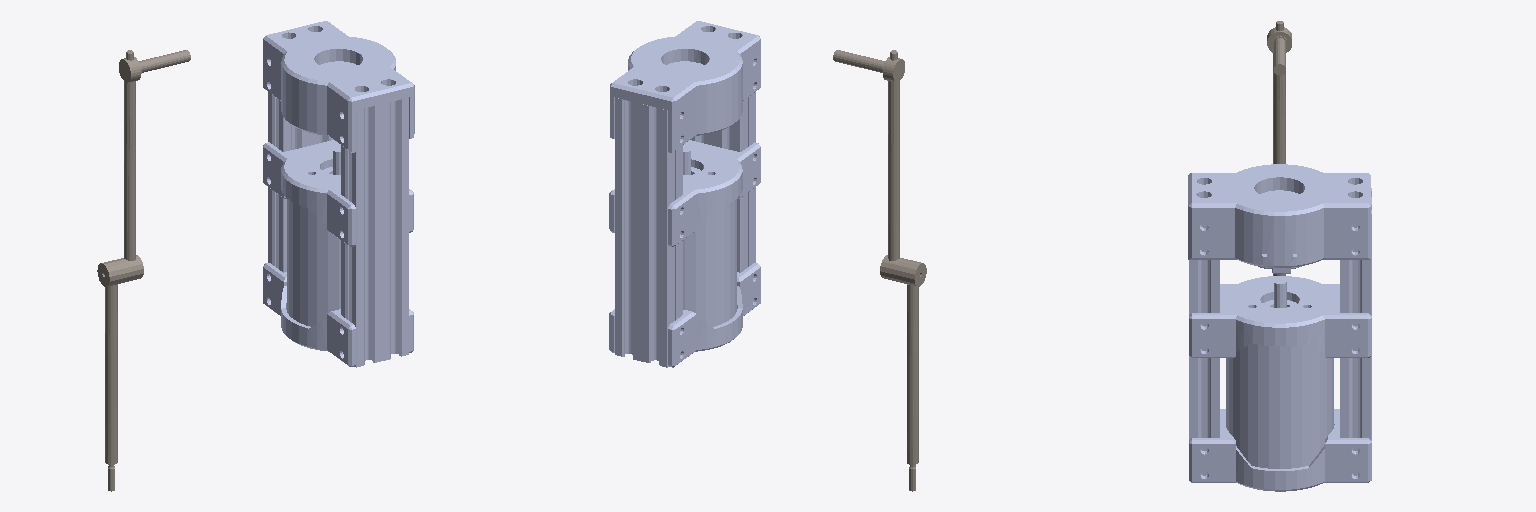
robot.urdf — double_invert_pendulum_description:
<?xml version="1.0" encoding="utf-8"?>
<!-- This URDF was automatically created by SolidWorks to URDF Exporter! Originally created by [author] ([email redacted]) 
     Commit Version: 1.6.0-4-g7f85cfe  Build Version: 1.6.7995.38578
     For more information, please see http://wiki.ros.org/sw_urdf_exporter -->
<robot
  name="double_invert_pendulum_description">
  <link
    name="base_link">
    <inertial>
      <origin
        xyz="4.35011143188255E-06 -4.26974202710952E-05 0.0926893522450359"
        rpy="0 0 0" />
      <mass
        value="0.951310569253784" />
      <inertia
        ixx="0.00149406454043322"
        ixy="4.1269780410918E-09"
        ixz="-7.65282756367952E-08"
        iyy="0.00140648625642533"
        iyz="8.80770910696327E-10"
        izz="0.000630646344660402" />
    </inertial>
    <visual>
      <origin
        xyz="0 0 0"
        rpy="0 0 0" />
      <geometry>
        <mesh
          filename="package://double_invert_pendulum_description/meshes/base_link.STL" />
      </geometry>
      <material
        name="">
        <color
          rgba="0.792156862745098 0.819607843137255 0.933333333333333 1" />
      </material>
    </visual>
    <collision>
      <origin
        xyz="0 0 0"
        rpy="0 0 0" />
      <geometry>
        <mesh
          filename="package://double_invert_pendulum_description/meshes/base_link.STL" />
      </geometry>
    </collision>
  </link>
  <link
    name="revolute_Link">
    <inertial>
      <origin
        xyz="-0.0286909334248885 -0.000165321852001084 0.00149997929858667"
        rpy="0 0 0" />
      <mass
        value="0.22015507085087" />
      <inertia
        ixx="5.59477770124058E-05"
        ixy="-2.47845250294301E-09"
        ixz="-6.15261336732562E-09"
        iyy="0.000114971529494517"
        iyz="4.85611321473666E-09"
        izz="0.000137466092368282" />
    </inertial>
    <visual>
      <origin
        xyz="0 0 0"
        rpy="0 0 0" />
      <geometry>
        <mesh
          filename="package://double_invert_pendulum_description/meshes/revolute_Link.STL" />
      </geometry>
      <material
        name="">
        <color
          rgba="0.650980392156863 0.619607843137255 0.588235294117647 1" />
      </material>
    </visual>
    <collision>
      <origin
        xyz="0 0 0"
        rpy="0 0 0" />
      <geometry>
        <mesh
          filename="package://double_invert_pendulum_description/meshes/revolute_Link.STL" />
      </geometry>
    </collision>
  </link>
  <joint
    name="revolute_joint"
    type="continuous">
    <origin
      xyz="0 0 0.2"
      rpy="0 0 0" />
    <parent
      link="base_link" />
    <child
      link="revolute_Link" />
    <axis
      xyz="0 0 1" />
    <limit
      lower="0"
      upper="0"
      effort="0"
      velocity="0" />
  </joint>
  <link
    name="first_pendulum_link">
    <inertial>
      <origin
        xyz="-1.00551614626808E-07 -0.0646208421547946 -0.00362087479361176"
        rpy="0 0 0" />
      <mass
        value="0.0997302210483471" />
      <inertia
        ixx="0.000174588068807011"
        ixy="-2.95045790865843E-10"
        ixz="2.21709158691669E-11"
        iyy="6.96835664909535E-06"
        iyz="5.24978381703526E-07"
        izz="0.000169216758156749" />
    </inertial>
    <visual>
      <origin
        xyz="0 0 0"
        rpy="0 0 0" />
      <geometry>
        <mesh
          filename="package://double_invert_pendulum_description/meshes/first_pendulum_link.STL" />
      </geometry>
      <material
        name="">
        <color
          rgba="0.650980392156863 0.619607843137255 0.588235294117647 1" />
      </material>
    </visual>
    <collision>
      <origin
        xyz="0 0 0"
        rpy="0 0 0" />
      <geometry>
        <mesh
          filename="package://double_invert_pendulum_description/meshes/first_pendulum_link.STL" />
      </geometry>
    </collision>
  </link>
  <joint
    name="first_pendulum_joint"
    type="continuous">
    <origin
      xyz="-0.157 -0.0002 0.0232"
      rpy="1.5708 0 -1.5708" />
    <parent
      link="revolute_Link" />
    <child
      link="first_pendulum_link" />
    <axis
      xyz="0 0 1" />
    <limit
      lower="0"
      upper="0"
      effort="0"
      velocity="0" />
  </joint>
  <link
    name="second_pendulum_link">
    <inertial>
      <origin
        xyz="-1.37241877775095E-07 -0.0553657542543718 0.000364883293048152"
        rpy="0 0 0" />
      <mass
        value="0.0733318769925464" />
      <inertia
        ixx="0.000168690593331268"
        ixy="2.94799944877995E-10"
        ixz="-2.24978351021251E-11"
        iyy="1.02496796632714E-06"
        iyz="5.48572430725862E-07"
        izz="0.000168736683605543" />
    </inertial>
    <visual>
      <origin
        xyz="0 0 0"
        rpy="0 0 0" />
      <geometry>
        <mesh
          filename="package://double_invert_pendulum_description/meshes/second_pendulum_link.STL" />
      </geometry>
      <material
        name="">
        <color
          rgba="0.650980392156863 0.619607843137255 0.588235294117647 1" />
      </material>
    </visual>
    <collision>
      <origin
        xyz="0 0 0"
        rpy="0 0 0" />
      <geometry>
        <mesh
          filename="package://double_invert_pendulum_description/meshes/second_pendulum_link.STL" />
      </geometry>
    </collision>
  </link>
  <joint
    name="second_pendulum_joint"
    type="continuous">
    <origin
      xyz="0 -0.1432 0.0135"
      rpy="0 0 0" />
    <parent
      link="first_pendulum_link" />
    <child
      link="second_pendulum_link" />
    <axis
      xyz="0 0 1" />
    <limit
      lower="0"
      upper="0"
      effort="0"
      velocity="0" />
  </joint>
</robot>

--- What the picture shows (computed from the rendered views, not written in the file) ---
3 views of the same robot in one strip: view 1: azimuth 30°, elevation 25°; view 2: azimuth 150°, elevation 25°; view 3: azimuth 270°, elevation 25° (orthographic).
Model double_invert_pendulum_description with 4 links and 3 joints (3 continuous), rooted at base_link, posed every joint at zero.
Visible links, largest first — view 1: base_link, first_pendulum_link, second_pendulum_link; view 2: base_link, first_pendulum_link, second_pendulum_link; view 3: base_link, first_pendulum_link.
Link boxes in pixels (x1=…): base_link: x1=263, y1=21, x2=414, y2=367; first_pendulum_link: x1=119, y1=50, x2=190, y2=282; second_pendulum_link: x1=97, y1=259, x2=126, y2=491; base_link: x1=609, y1=21, x2=760, y2=367; first_pendulum_link: x1=833, y1=50, x2=904, y2=281; second_pendulum_link: x1=897, y1=259, x2=926, y2=491; base_link: x1=1188, y1=164, x2=1371, y2=491; first_pendulum_link: x1=1267, y1=21, x2=1291, y2=163.
Bounding box of the posed robot: 0.2143 × 0.1152 × 0.312 m (x, y, z).
3 mesh visuals loaded from 4 distinct referenced files (3 binary STL); not drawn: 1 (reference not matched to a file when rendering).